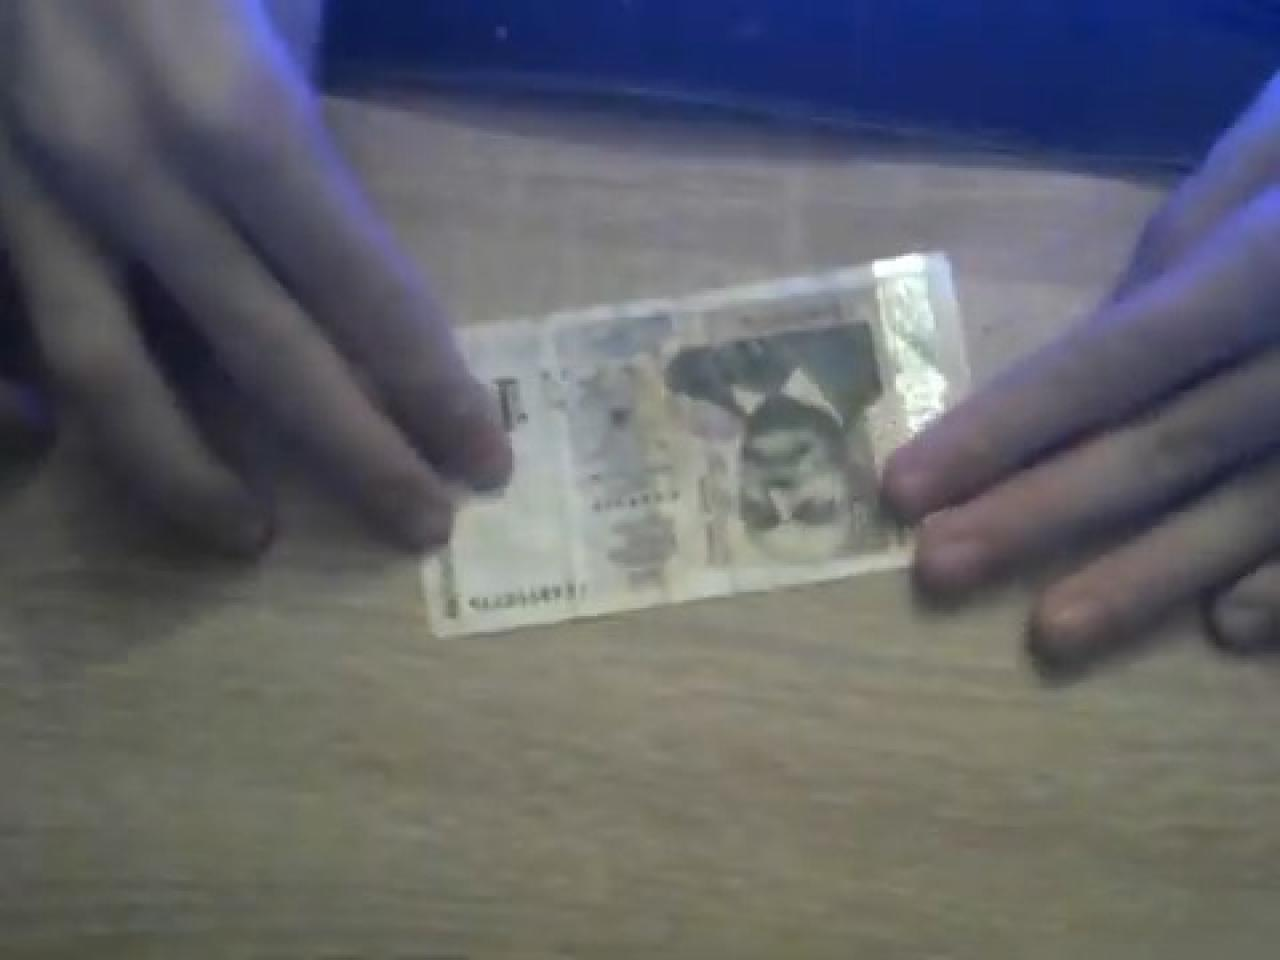10leva: (424, 253, 974, 642)
